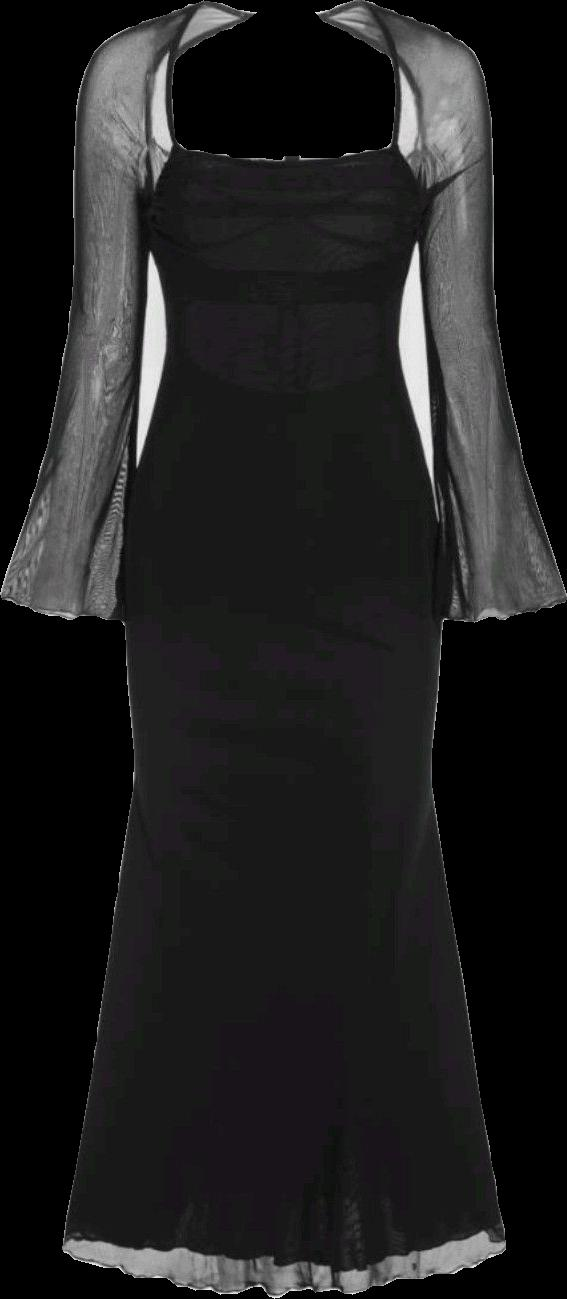Bodice: (148, 143, 419, 403)
Hemline: (55, 1239, 507, 1298)
Neckline: (163, 143, 400, 175)
Skirt: (63, 375, 505, 1297)
Sleeve: (393, 18, 566, 624), (0, 16, 170, 621)
Sleeveline: (141, 13, 179, 164), (388, 11, 417, 162)
